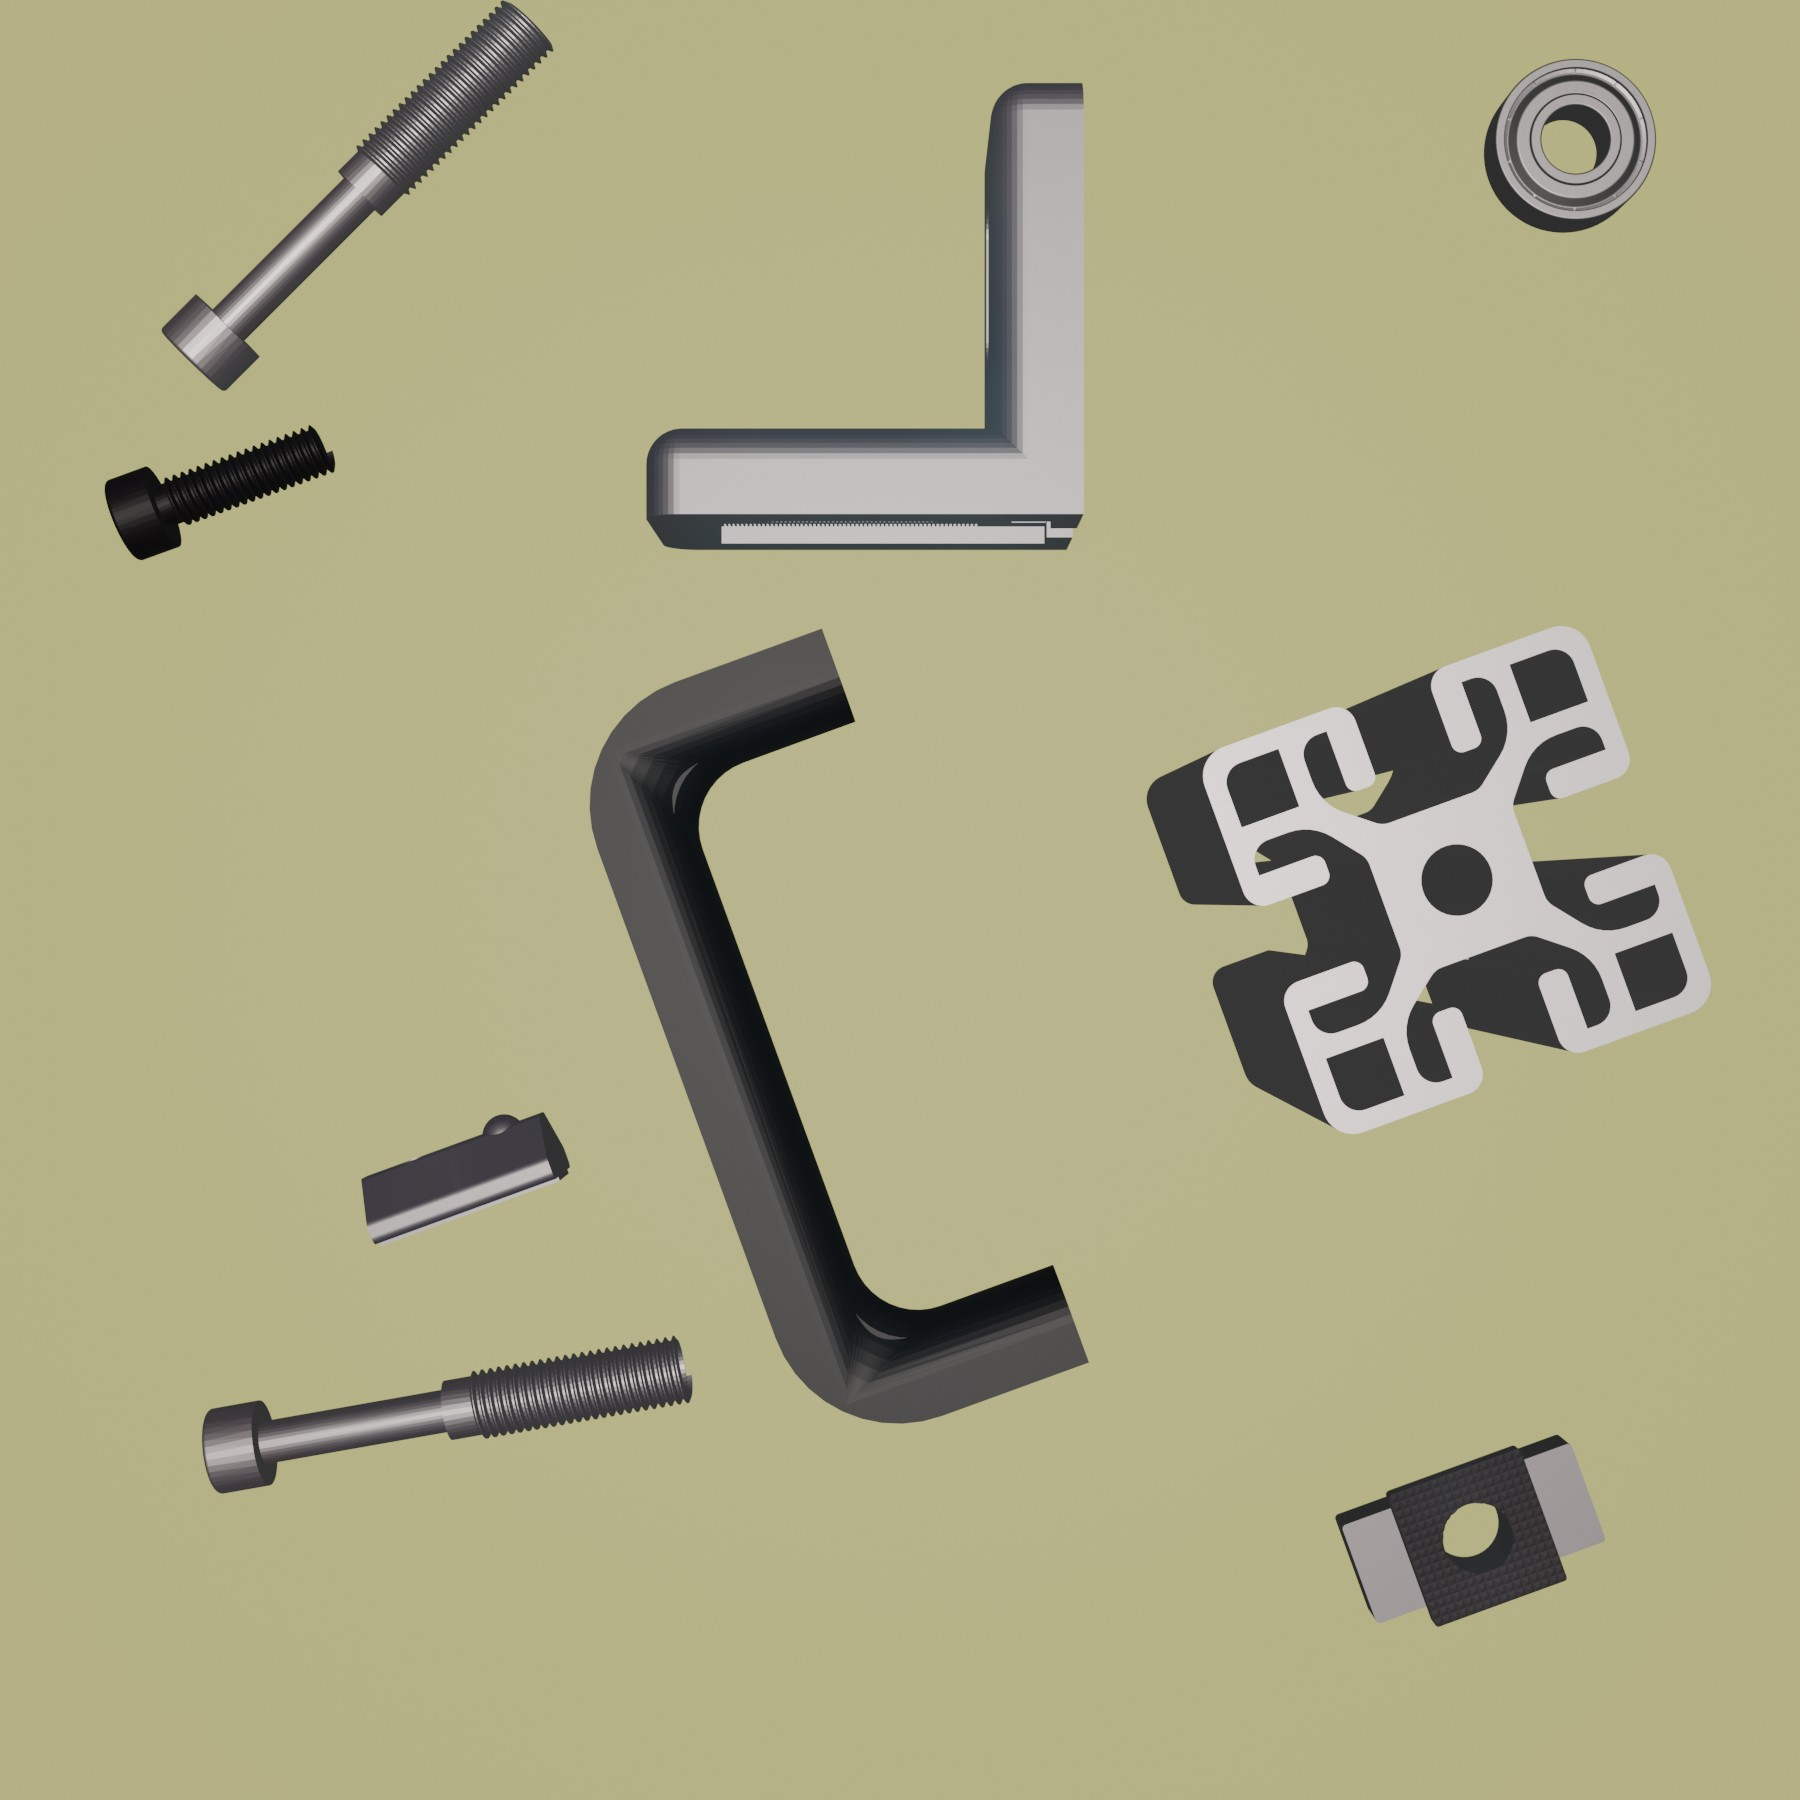Aluminium Extension: (1146, 621, 1713, 1137)
Ball Bearing: (1480, 54, 1658, 236)
Multiwinkel: (643, 77, 1091, 554)
Pull Handle: (587, 626, 1090, 1427)
Shoulder Socket Head Cap Screw: (162, 2, 554, 392), (201, 1330, 696, 1497)
Socket Head Cap Screw: (102, 419, 340, 562)
T Nut Square: (1332, 1431, 1609, 1630)
T Spring Nut: (359, 1104, 570, 1248)
